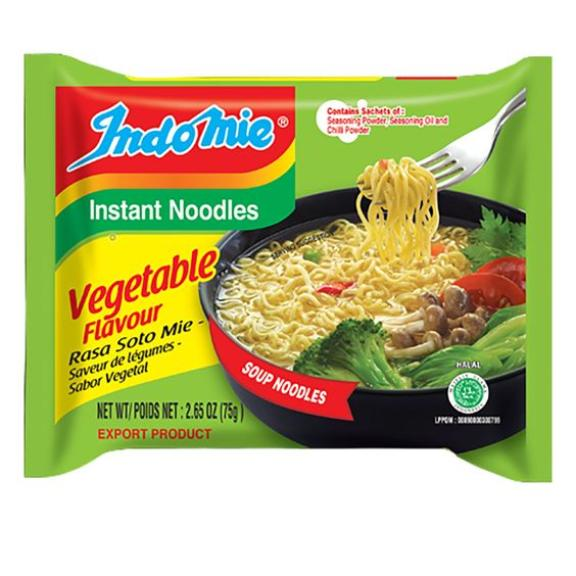Plastik: (24, 53, 552, 483)
